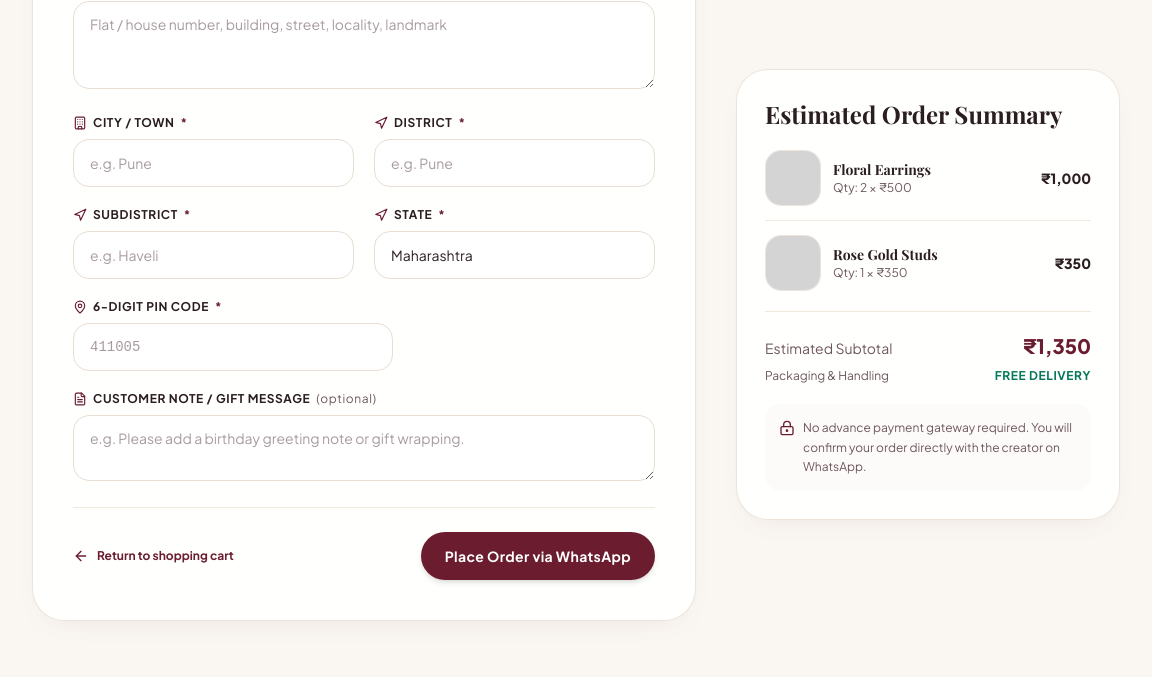
it: CheckoutPage › validates required fields with inline messages
(page scrolled)
Click the button "Place Order via WhatsApp" at (538, 556), box [421,532,655,580]
(page scrolled)
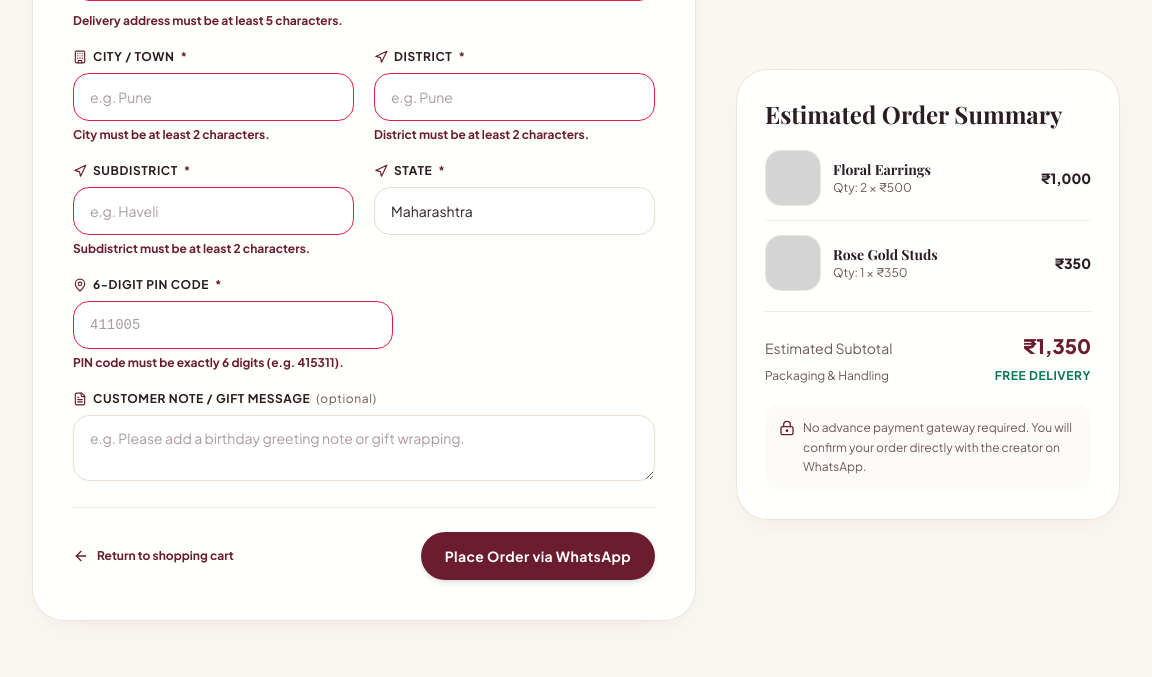
Expected: the text "Delivery address must be at least 5 characters." is shown, [73,12,343,28]
Expected: the text "City must be at least 2 characters." is shown, [73,126,270,142]
Expected: the text "PIN code must be exactly 6 digits (e.g. 415311)." is shown, [73,354,344,370]
